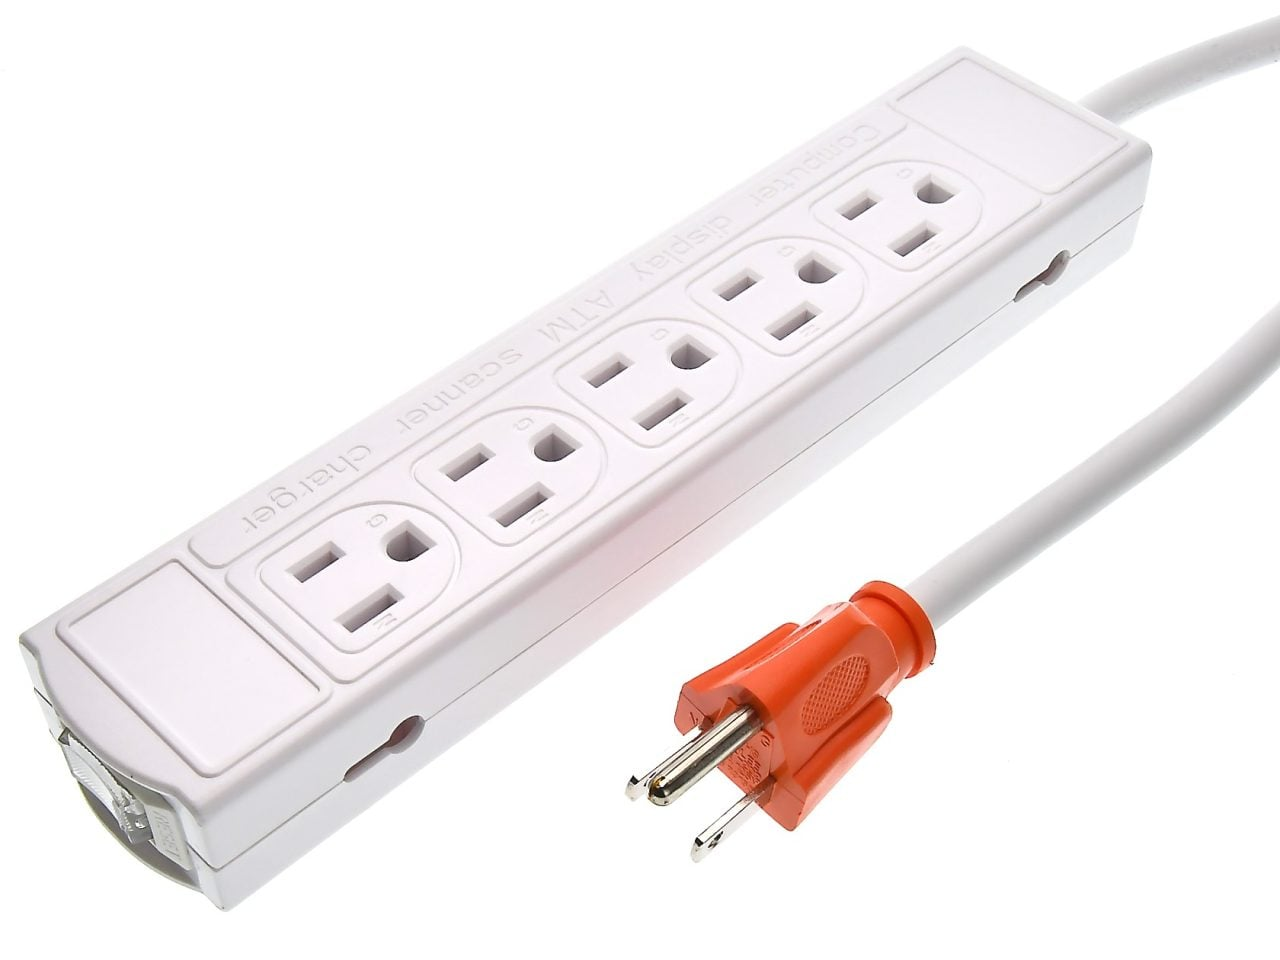socket: (17, 42, 1153, 913)
